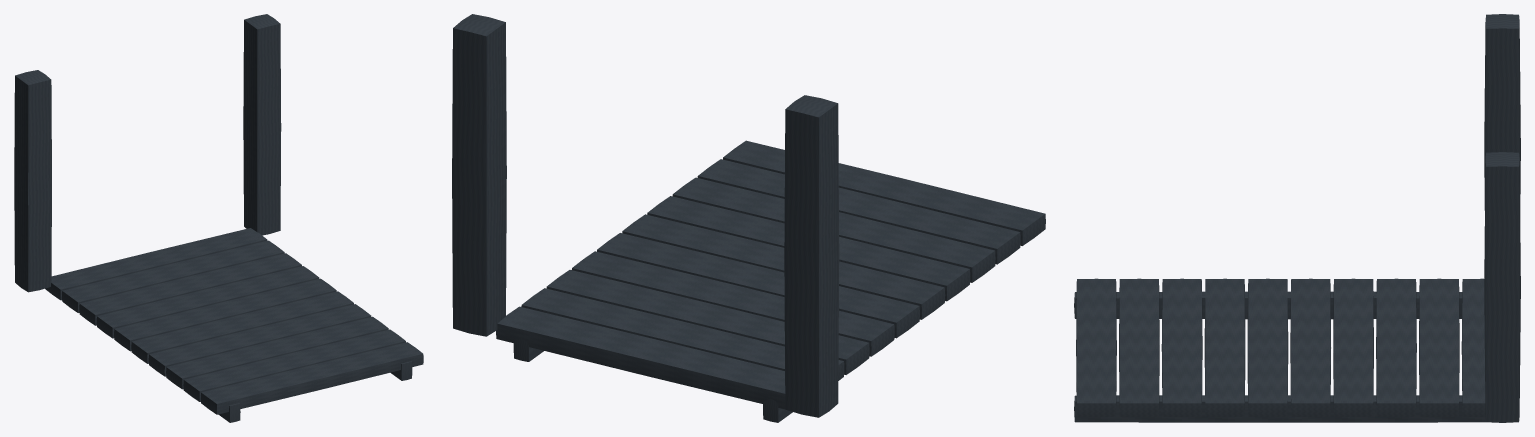
3 views of the same model, side by side, from view 1: azimuth 30°, elevation 25°; view 2: azimuth 150°, elevation 25°; view 3: azimuth 270°, elevation 25° (orthographic). The views are drawn at different scales.
Visible parts, largest first — view 1: iron.0, iron.1, iron.11, iron.5, iron.6, iron.7, iron.8, iron.10, iron.3, iron.4, iron.9, iron.2; view 2: iron.0, iron.1, iron.2, iron.11, iron.4, iron.5, iron.10, iron.9, iron.6, iron.8, iron.7, iron.3; view 3: iron.1, iron.11, iron.4, iron.5, iron.10, iron.3, iron.7, iron.8, iron.9, iron.6, iron.0, iron.13 (+2 smaller).
Part boxes in pixels (x1,y1,x2,y2): iron.0: (14, 70, 51, 292); iron.1: (243, 14, 281, 235); iron.11: (201, 342, 423, 414); iron.5: (96, 266, 319, 338); iron.6: (114, 278, 336, 351); iron.7: (131, 291, 353, 363); iron.8: (148, 304, 371, 376); iron.10: (183, 329, 405, 401); iron.3: (62, 240, 284, 312); iron.4: (79, 253, 301, 325); iron.9: (166, 316, 388, 389); iron.2: (45, 228, 267, 300); iron.0: (784, 95, 839, 417); iron.1: (452, 14, 506, 336); iron.2: (496, 306, 785, 409); iron.11: (723, 140, 1045, 245); iron.4: (546, 270, 869, 374); iron.5: (572, 251, 894, 356); iron.10: (697, 159, 1020, 264); iron.9: (672, 177, 995, 282); iron.6: (597, 233, 919, 338); iron.8: (647, 196, 970, 301); iron.7: (622, 214, 945, 319); iron.3: (521, 288, 844, 380); iron.1: (1484, 152, 1520, 422); iron.11: (1076, 278, 1116, 416); iron.4: (1376, 278, 1416, 416); iron.5: (1333, 278, 1373, 416); iron.10: (1119, 278, 1159, 416); iron.3: (1419, 278, 1459, 416); iron.7: (1247, 278, 1288, 416); iron.8: (1204, 278, 1245, 416); iron.9: (1161, 278, 1202, 416); iron.6: (1290, 278, 1330, 416); iron.0: (1484, 14, 1520, 210); iron.13: (1074, 395, 1485, 422).
Bounding box in the file's own units: 1.78 × 1.51 × 2.19.
Materials: 1 (1 with a texture image).
